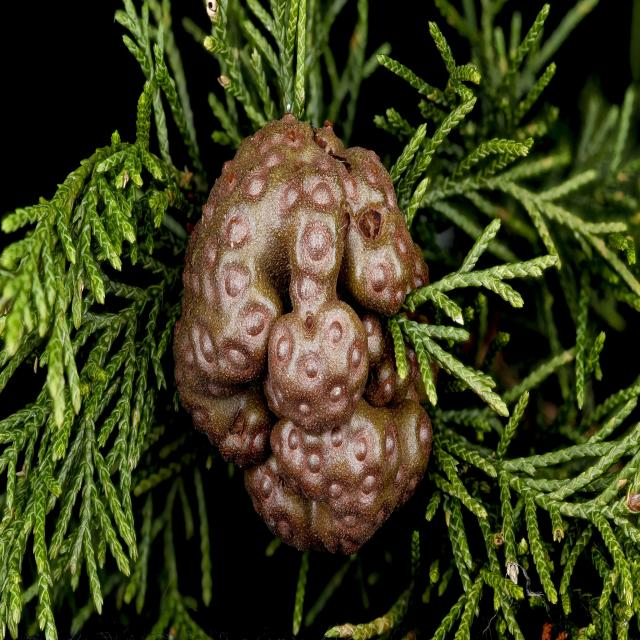Gymnosporangium_Rusts: (172, 111, 435, 556)
